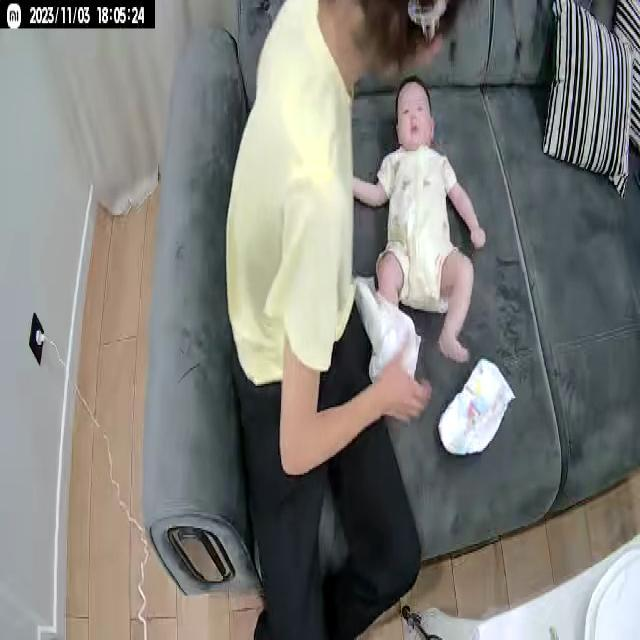baby: (336, 71, 490, 372)
